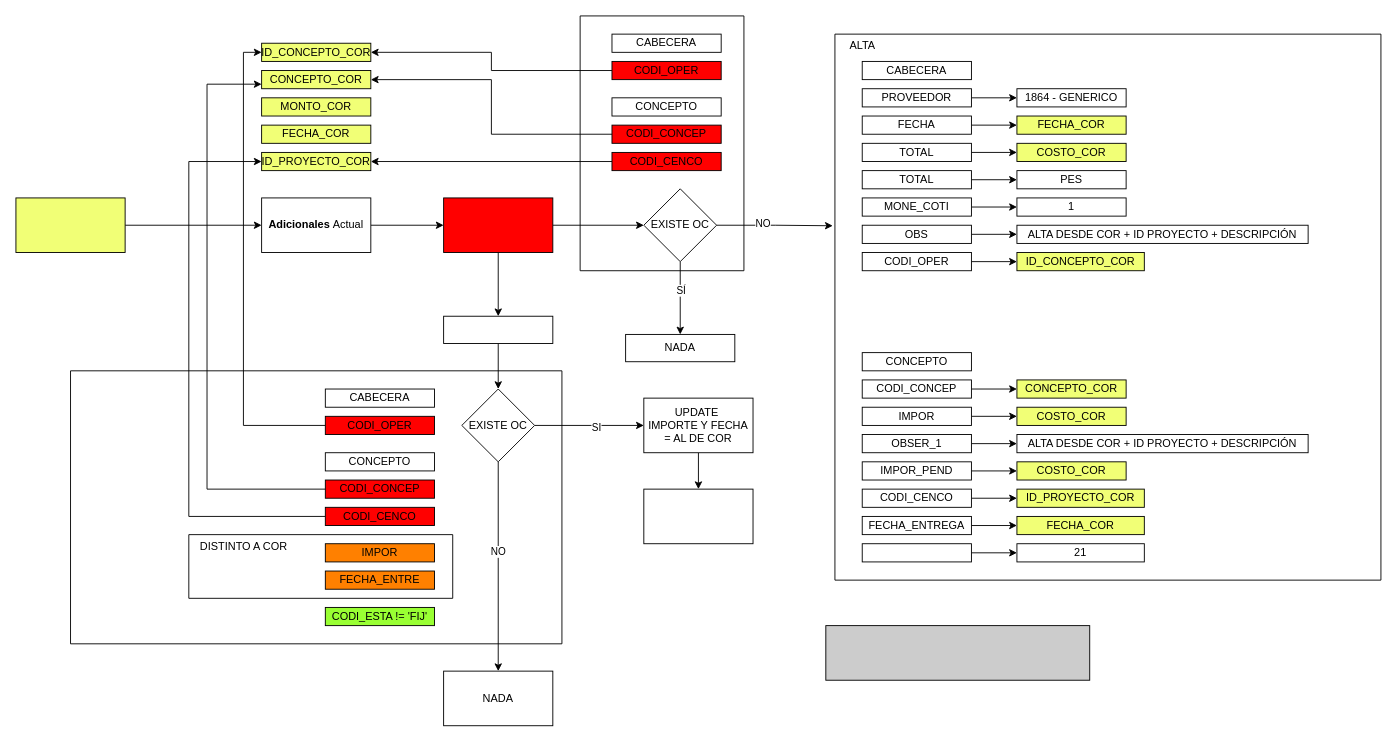
Some shapes in this 1397 by 742 pixel diagram are drawn without their labels. The box of each missing label's shape, as (x1, y1, x2, y2) in pixels:
COR: (15, 197, 125, 253)
GRABA EN LOG: (643, 488, 753, 544)
MODIFICACIÓN: (70, 370, 562, 644)
NOTA: IDENTIFICACIÓN ÚNICA POR ID_CONCEPTO, ID_PROYECTO Y ID_CONCEPTO: (825, 625, 1090, 680)
ORDEN DE COMPRA: (443, 197, 553, 253)
PORCEN_IVA: (861, 543, 971, 562)
UPDATE: (443, 315, 553, 344)
